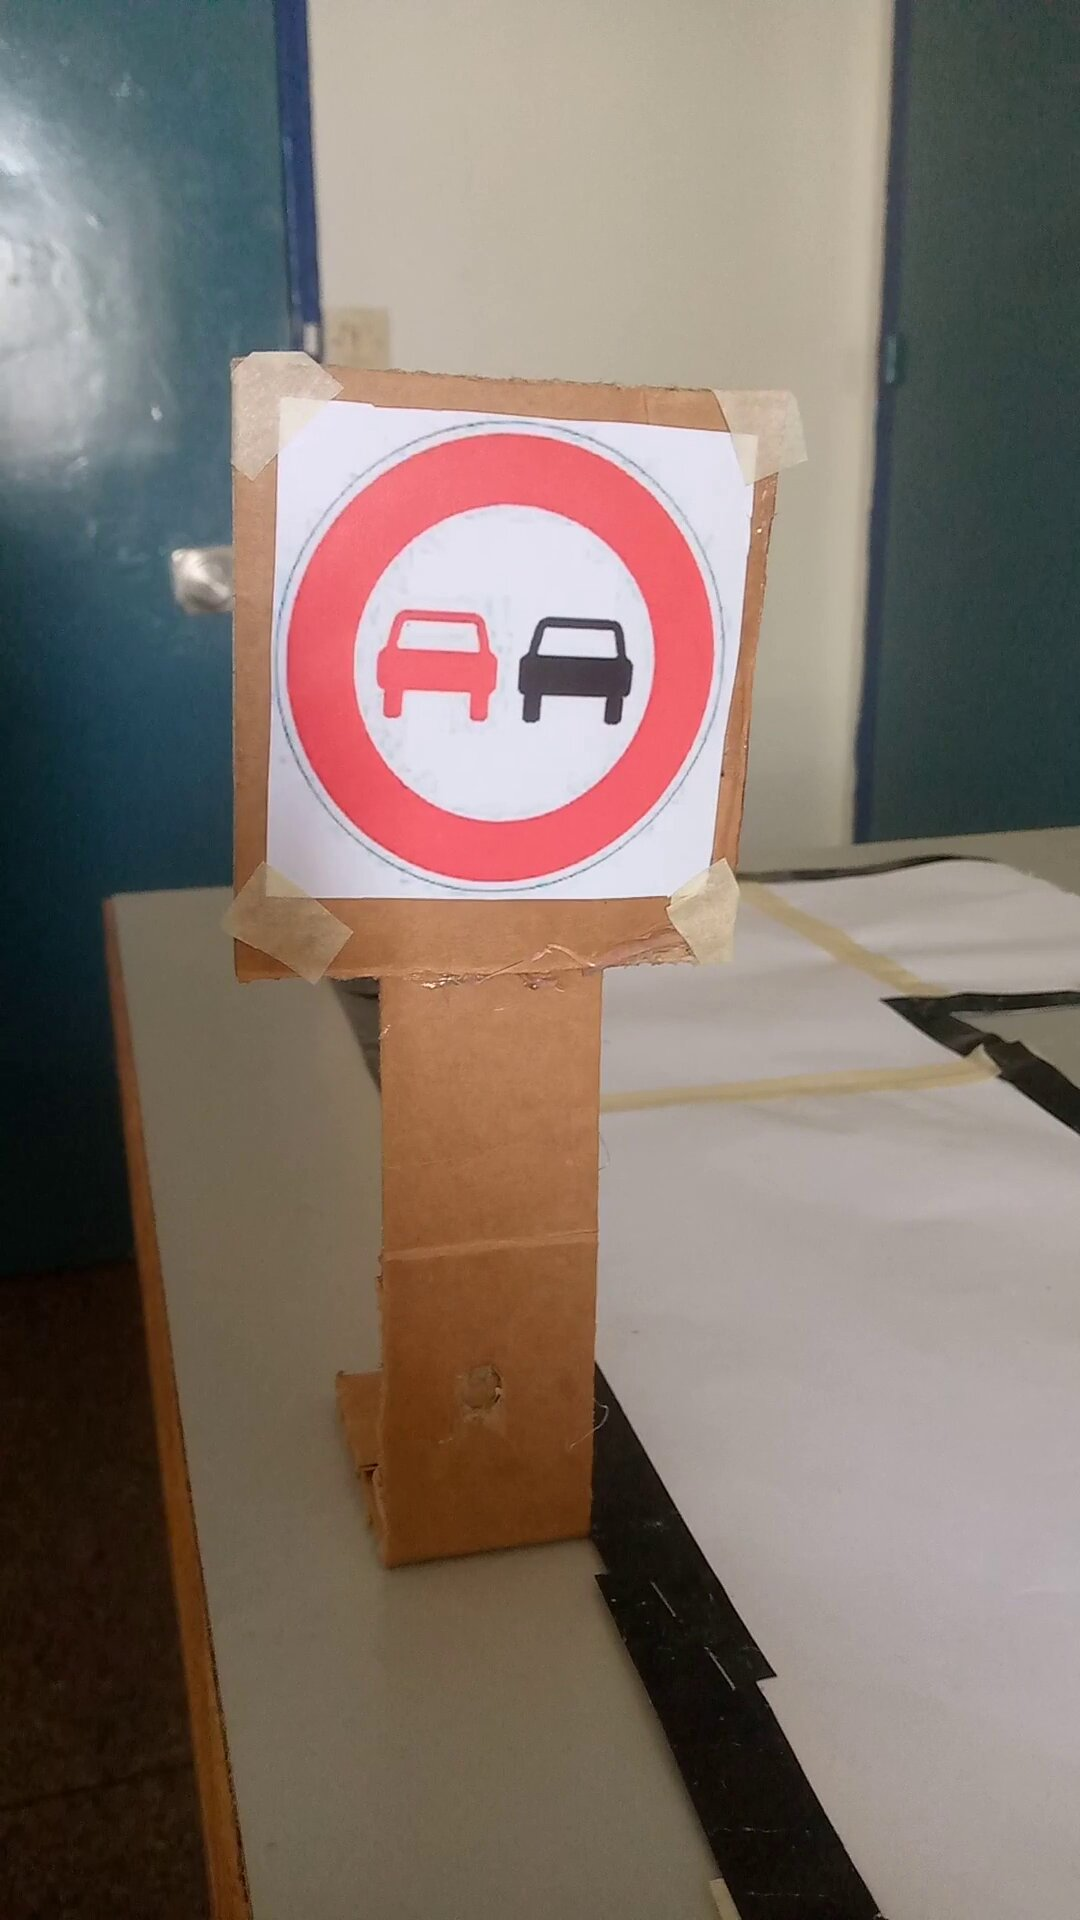panel100: (276, 375, 724, 909)
